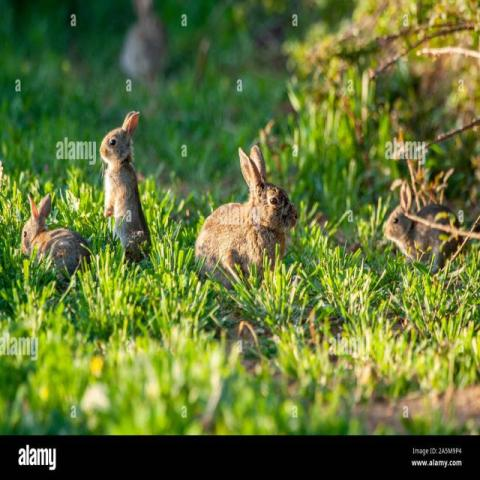small_animal: (191, 144, 299, 290), (95, 109, 154, 266), (17, 191, 94, 285), (380, 201, 464, 275)
